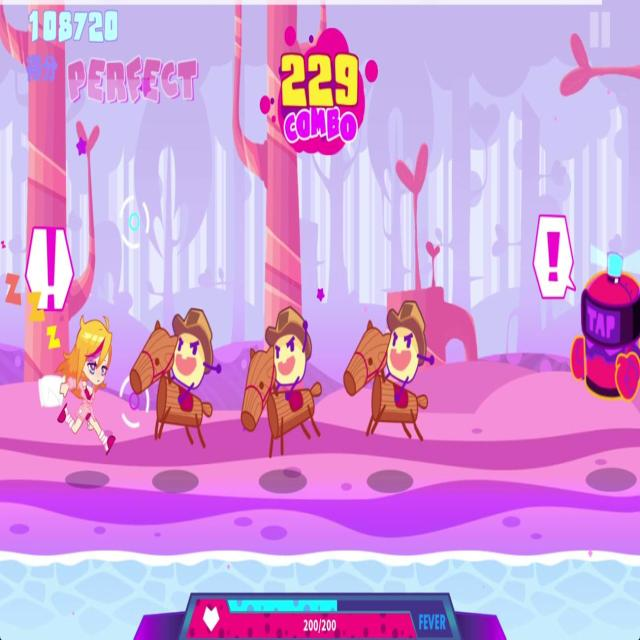qiu: (343, 293, 432, 451), (129, 299, 217, 453), (240, 299, 323, 459)
tapboss: (571, 241, 640, 413)
